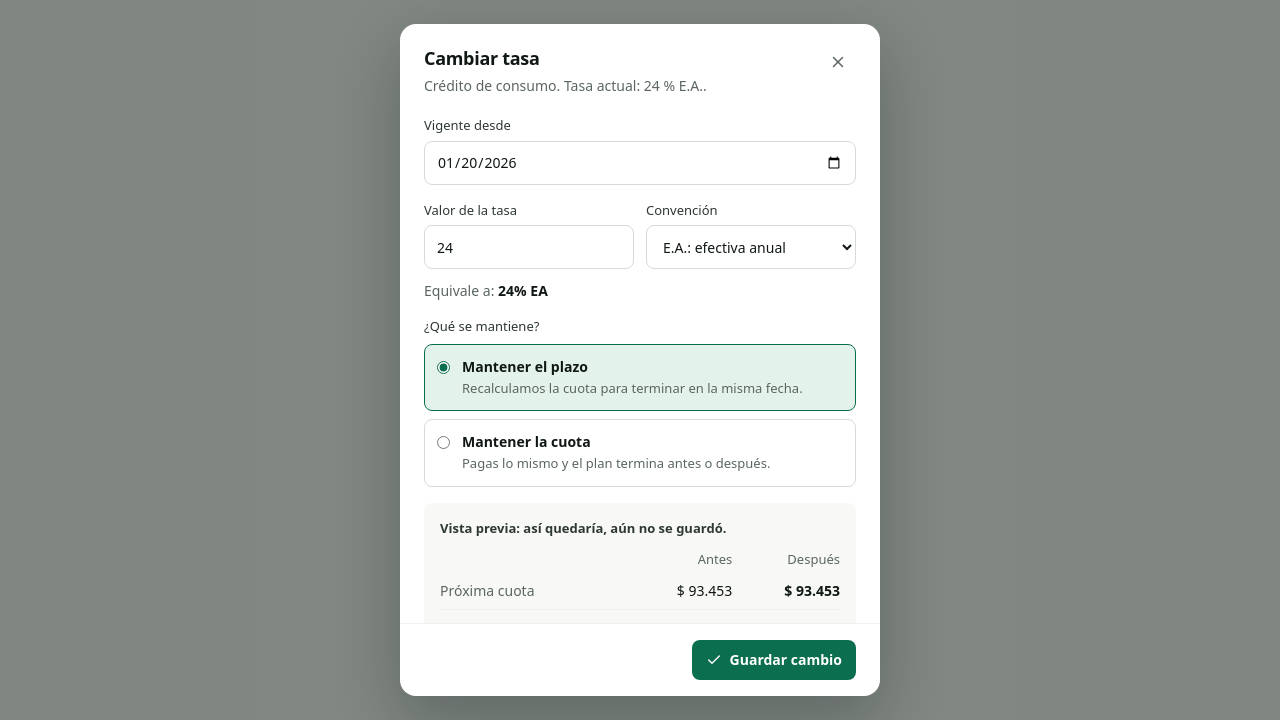
it: RateChangeDialog preview › keeps the save disabled until the rate is a valid number, and explains an invalid date
Clear the number field labelled "Valor de la tasa" at (529, 247), box top-left (424, 225), bottom-right (634, 269)
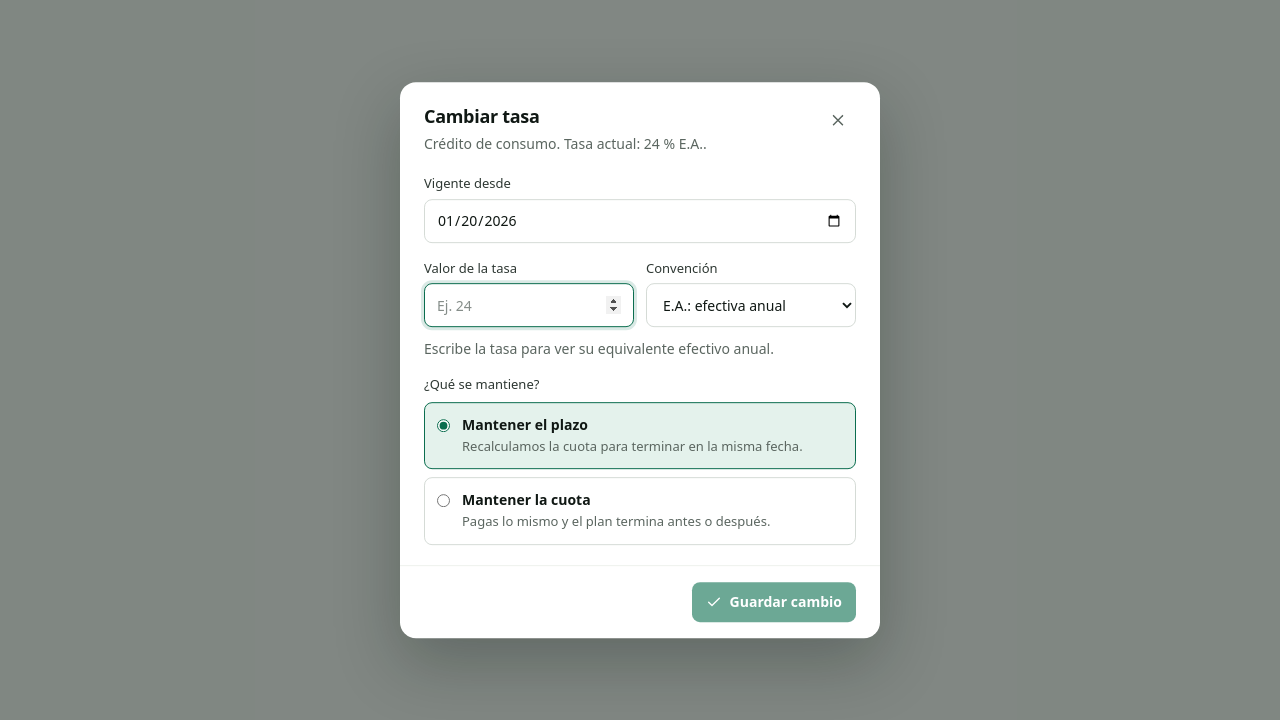
Check: the button "Guardar cambio" is disabled, box top-left (692, 582), bottom-right (856, 622)
Check: the text "Vista previa" is gone
Type "22" into the number field labelled "Valor de la tasa" at (529, 305), box top-left (424, 283), bottom-right (634, 327)
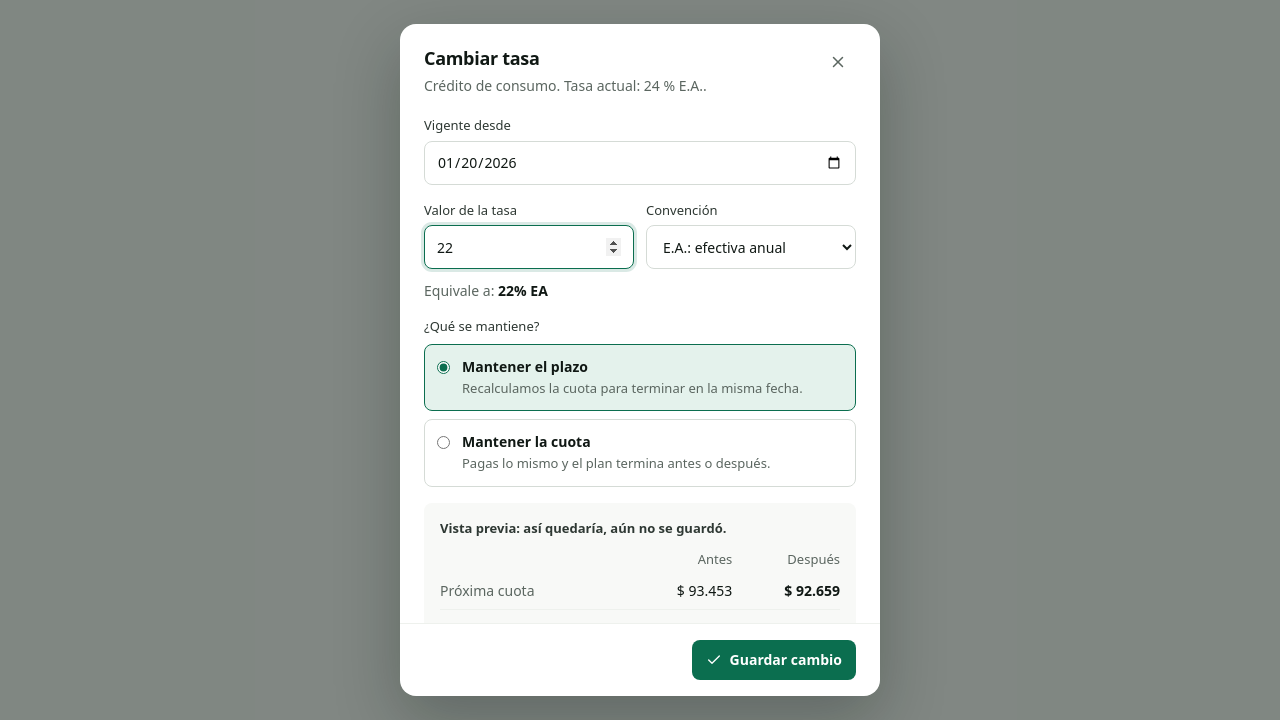
Check: the button "Guardar cambio" is enabled, box top-left (692, 640), bottom-right (856, 680)
Clear the date field labelled "Vigente desde" at (640, 163), box top-left (424, 141), bottom-right (856, 185)
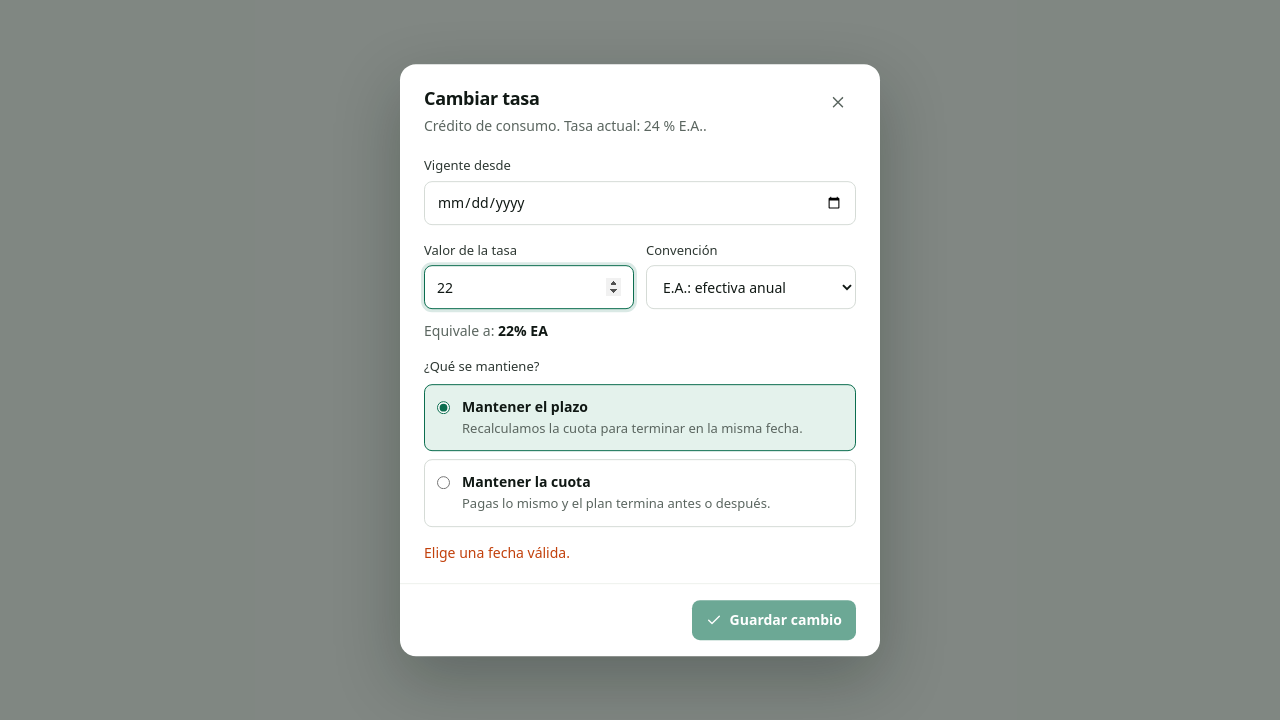
Check: the button "Guardar cambio" is disabled, box top-left (692, 600), bottom-right (856, 640)
Check: the message reads "Elige una fecha válida.", box top-left (424, 543), bottom-right (570, 562)
